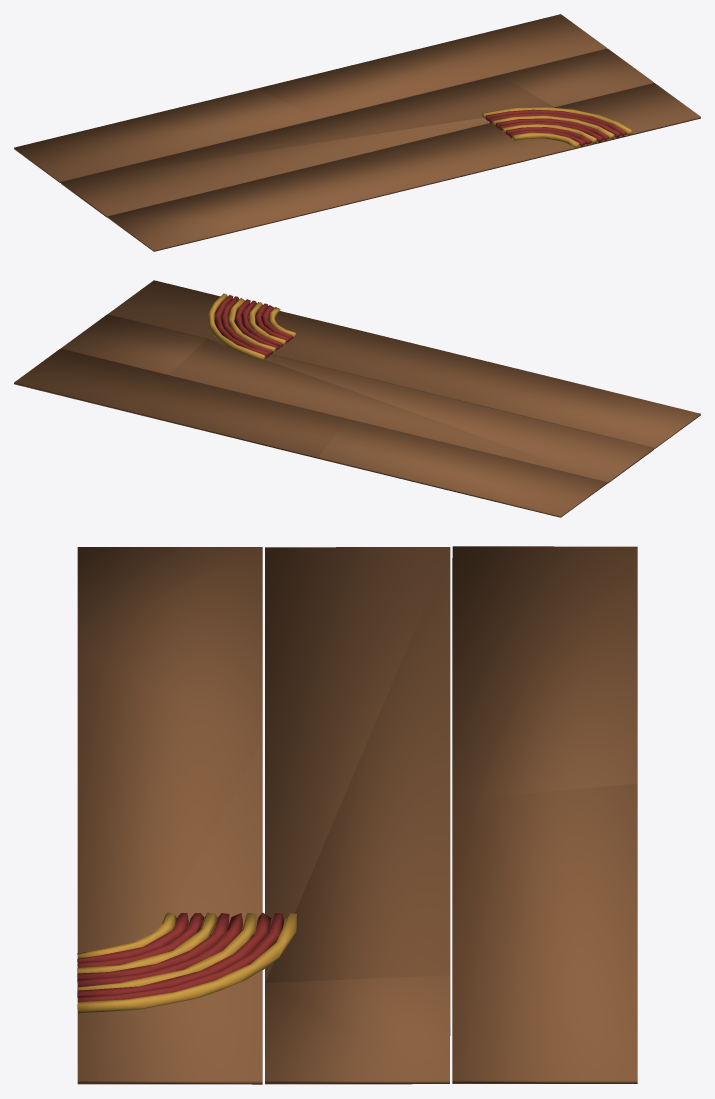
File: ember_room_floor_lod2.glb
The picture shows the model from 3 angles, top to bottom: view 1: azimuth 30°, elevation 25°; view 2: azimuth 150°, elevation 25°; view 3: azimuth 270°, elevation 25°; orthographic projection. The views are drawn at different scales.
Visible parts, largest first — view 1: ember_room_floor.001; view 2: ember_room_floor.001; view 3: ember_room_floor.001.
Part boxes in pixels (x1,y1,x2,y2): ember_room_floor.001: (14, 14, 700, 251); ember_room_floor.001: (14, 280, 700, 517); ember_room_floor.001: (77, 546, 637, 1084).
Bounding box in the file's own units: 300 × 3.15 × 133.
